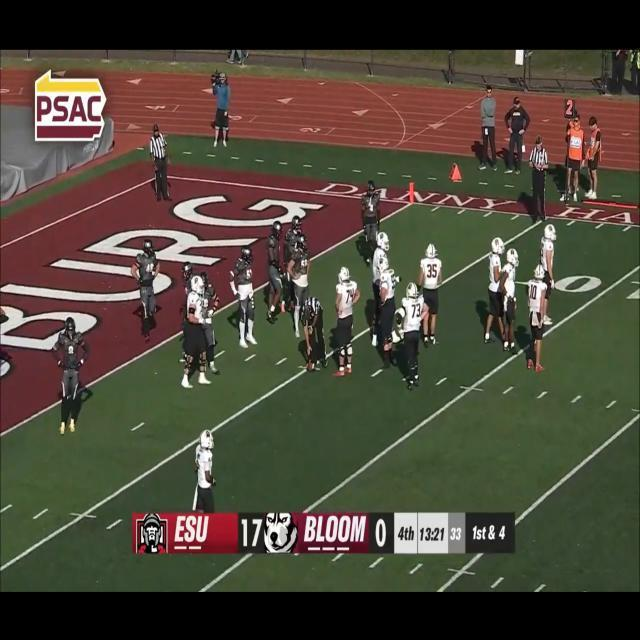football: (305, 360, 316, 373)
